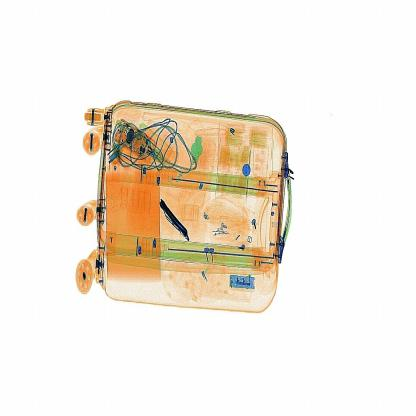knife: (156, 195, 188, 241)
